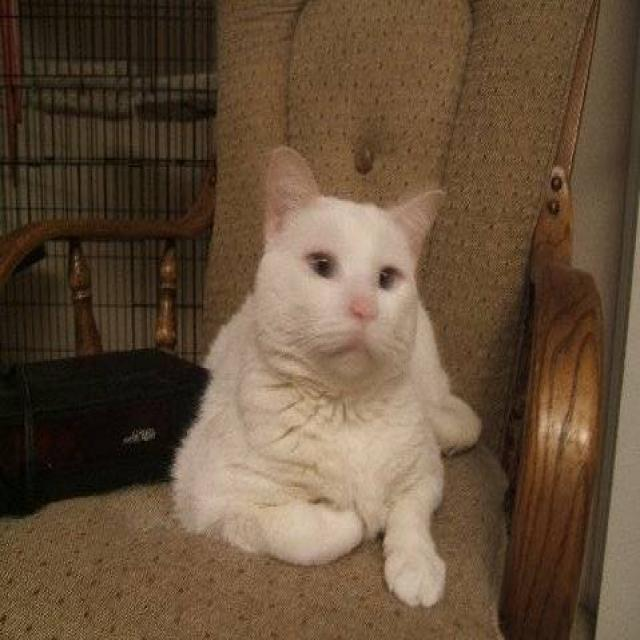cat: (168, 142, 482, 608)
